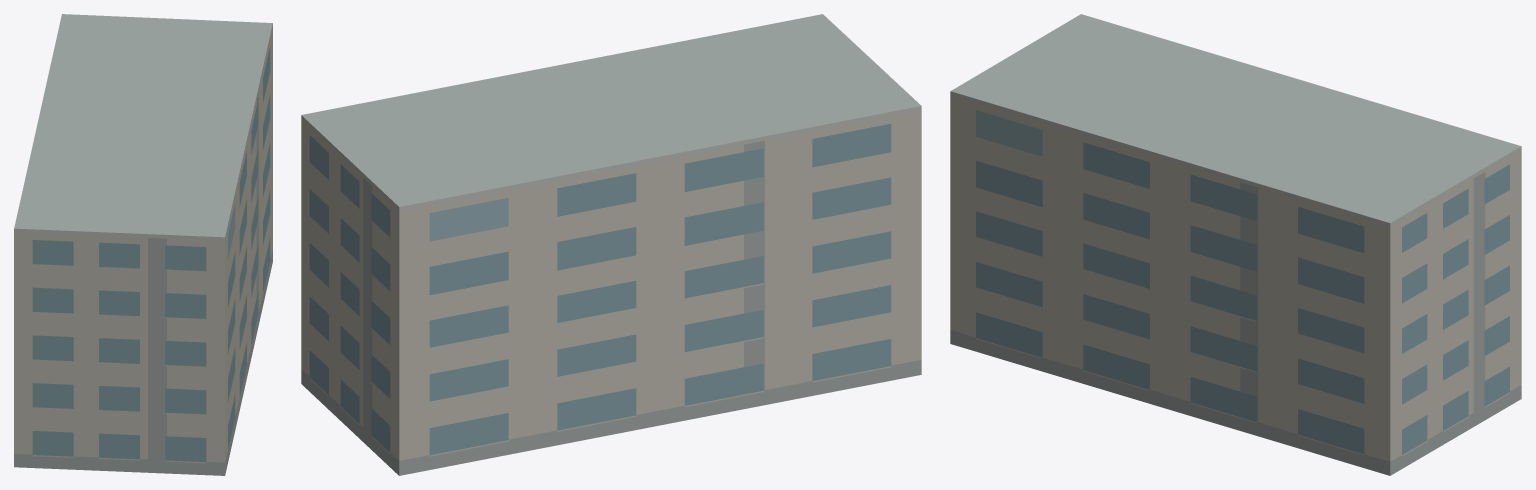
The model's file is survey-upis-32834594.glb.
The picture shows the model from 3 angles, left to right: view 1: azimuth 30°, elevation 25°; view 2: azimuth 150°, elevation 25°; view 3: azimuth 270°, elevation 25°; orthographic projection. The views are drawn at different scales.
Parts seen in each view (by area): view 1: survey-upis-32834594.tmp; view 2: survey-upis-32834594.tmp; view 3: survey-upis-32834594.tmp.
Part boxes in pixels (left/top/right/bottom): survey-upis-32834594.tmp: left=14, top=14, right=272, bottom=475; survey-upis-32834594.tmp: left=301, top=14, right=921, bottom=475; survey-upis-32834594.tmp: left=950, top=14, right=1521, bottom=475.
Size of the model in its own units: 27.07 by 15.25 by 31.23.
